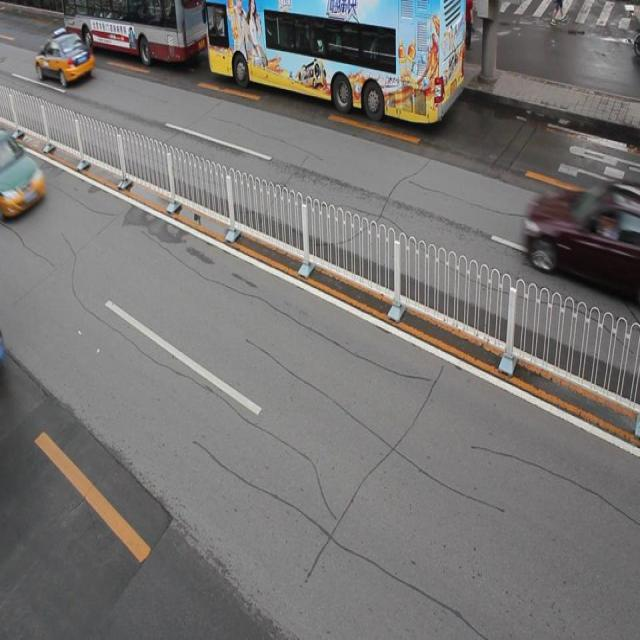car: (526, 179, 640, 296), (1, 134, 46, 217), (36, 31, 95, 86)
van: (206, 1, 465, 123), (62, 1, 206, 62)
